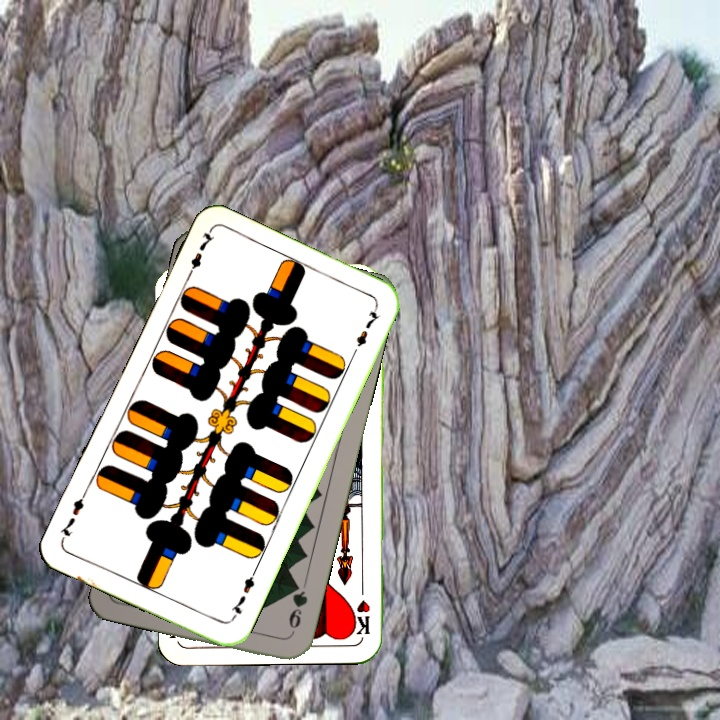E7: (182, 227, 217, 283), (227, 567, 259, 623)
G9: (285, 578, 311, 638)
HK: (351, 579, 373, 638)
